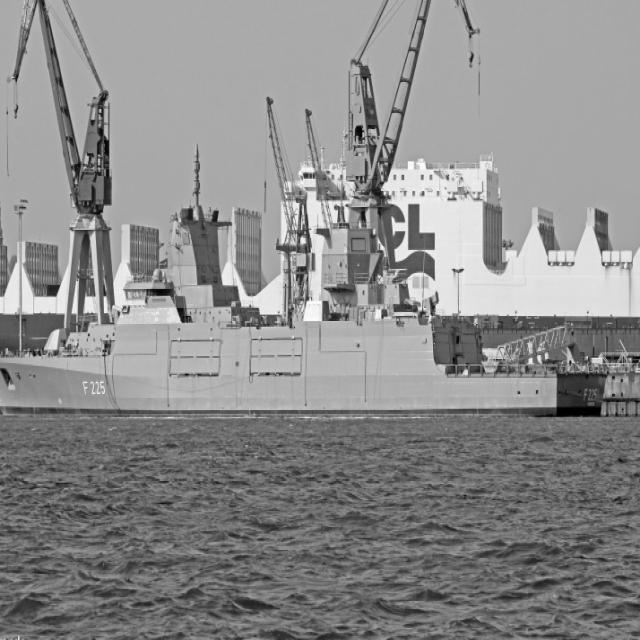Fragata: (1, 201, 611, 423)
